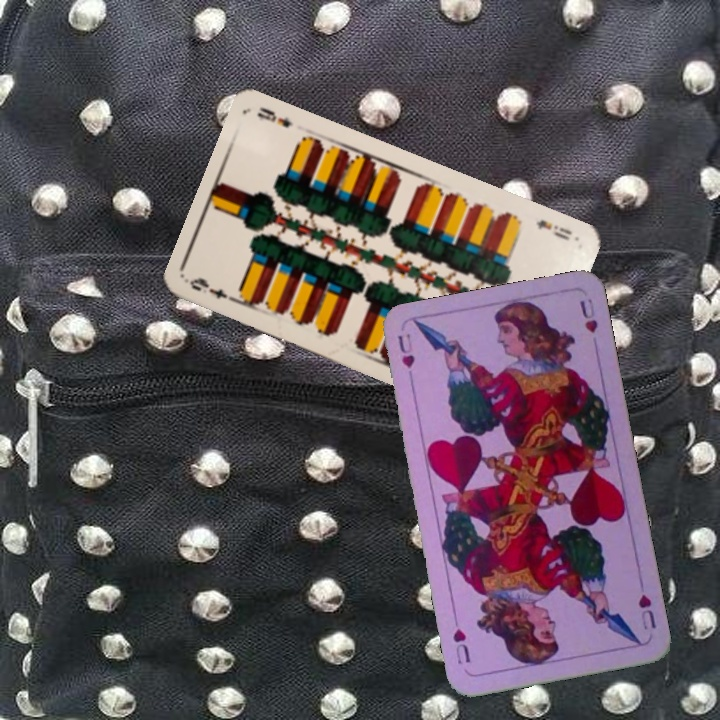E9: (185, 273, 243, 306), (532, 215, 574, 243)
HU: (394, 329, 418, 387), (634, 590, 659, 632)
